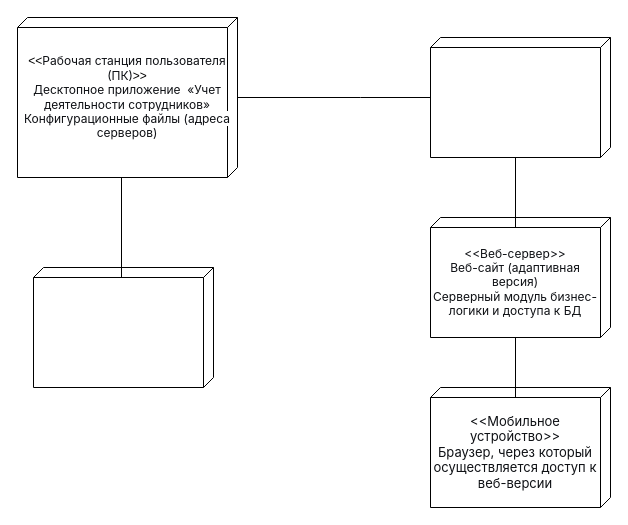
This 628x525 diagram has some shape labels left out. Each missing label, with the centre of its shape:
"<<Сервер базы данных>> СУБД PostgreSQL База данных" belongs at point 520,97.
"<<Сервер системы заявок>> Веб-сервер с API системы заявок" belongs at point 123,327.
